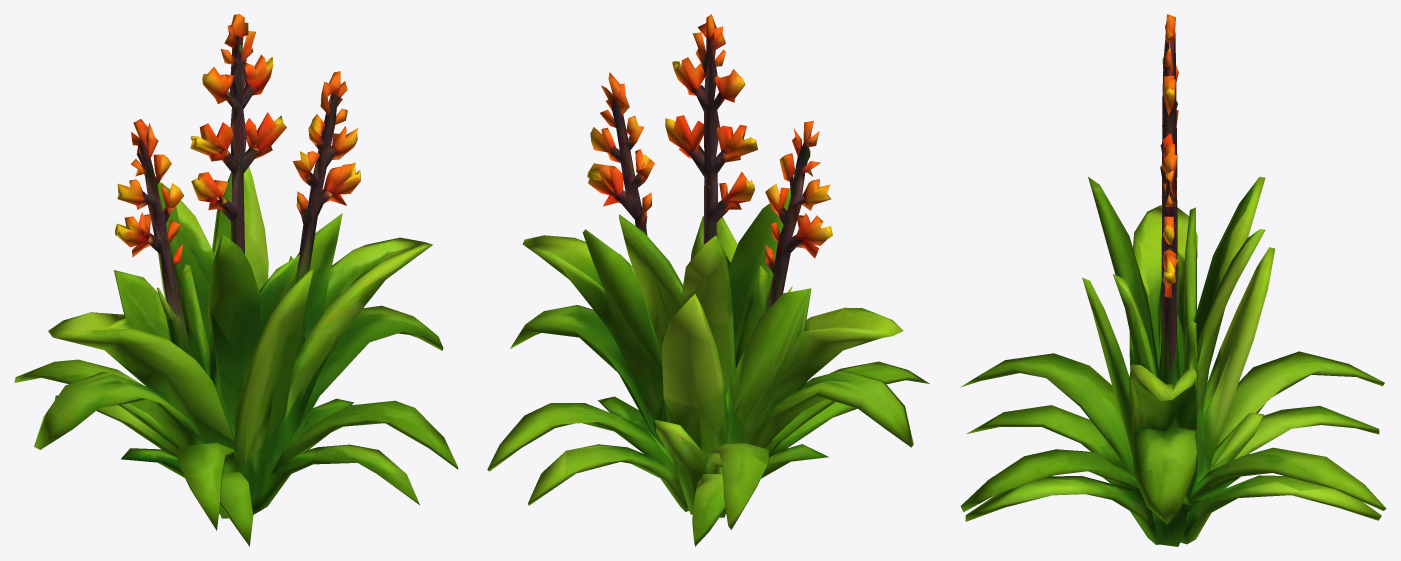
File: harakeke.glb
3 views of the same model, side by side, from view 1: azimuth 30°, elevation 25°; view 2: azimuth 150°, elevation 25°; view 3: azimuth 270°, elevation 25° (orthographic). The views are drawn at different scales.
Parts seen in each view (by area): view 1: model; view 2: model; view 3: model.
Part boxes in pixels (<box>): model: <box>14,14,458,546</box>; model: <box>487,14,929,546</box>; model: <box>960,14,1386,546</box>.
Bounding box in the file's own units: 1.63 × 1.91 × 1.42.
Materials: 1 (1 with a texture image).
